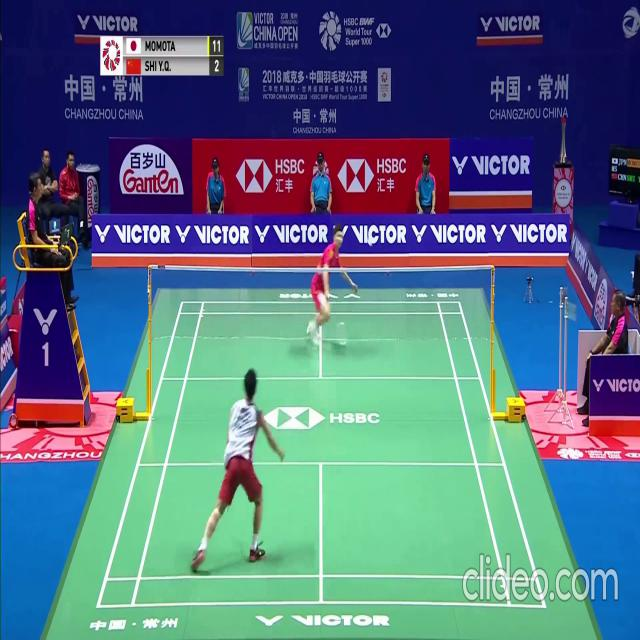Shuttlecock: (367, 238, 372, 246)
